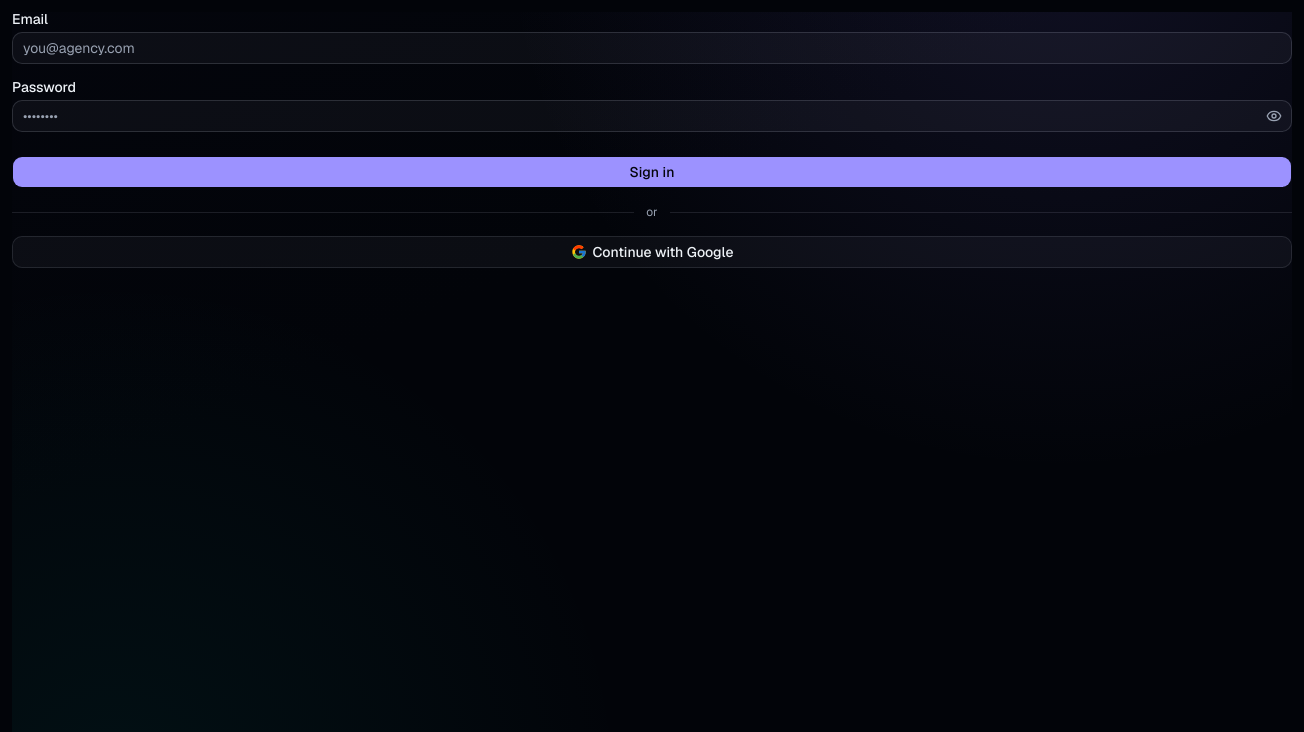
Test case: LoginForm › does not attempt to provision an organization when sign-in fails
Step 1. Type "ana@example.com" into the field labelled "Email" → [652, 48], box [12, 32, 1292, 64]
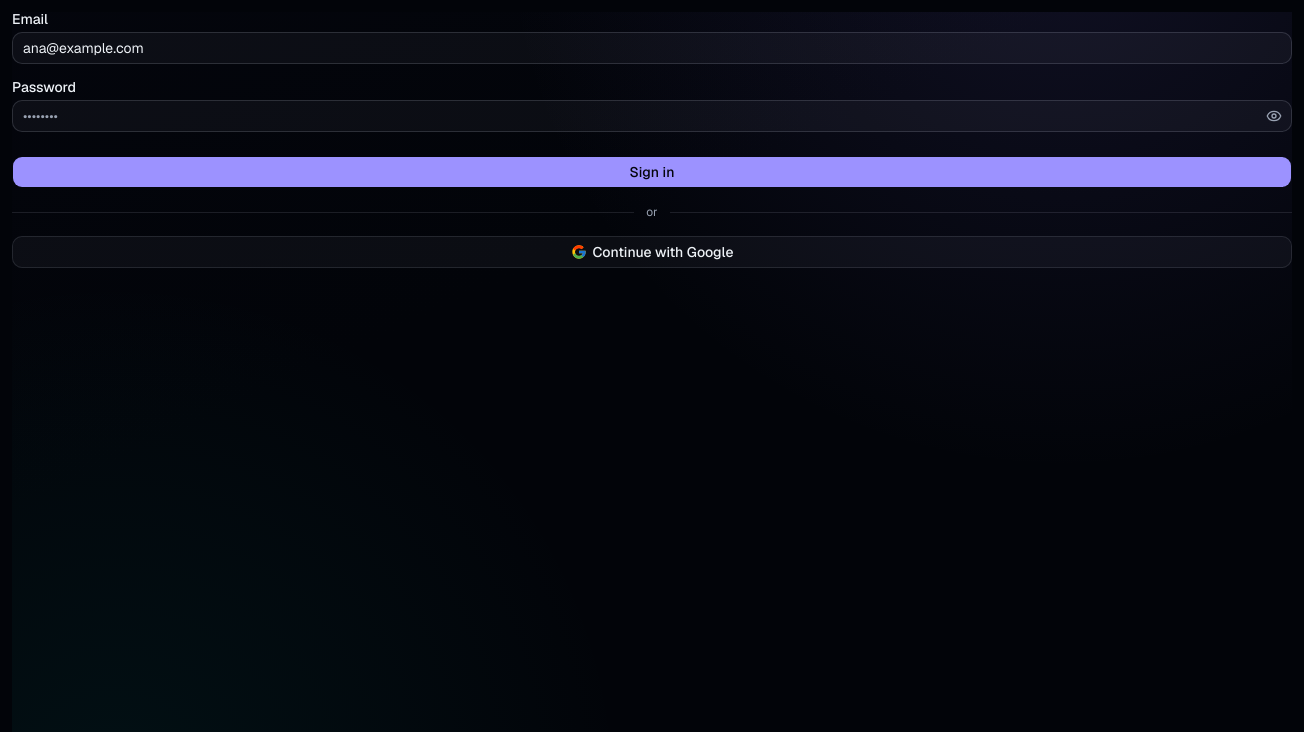
Step 2. Type "wrongpassword1" into the password field labelled "Password" → [652, 116], box [12, 100, 1292, 132]
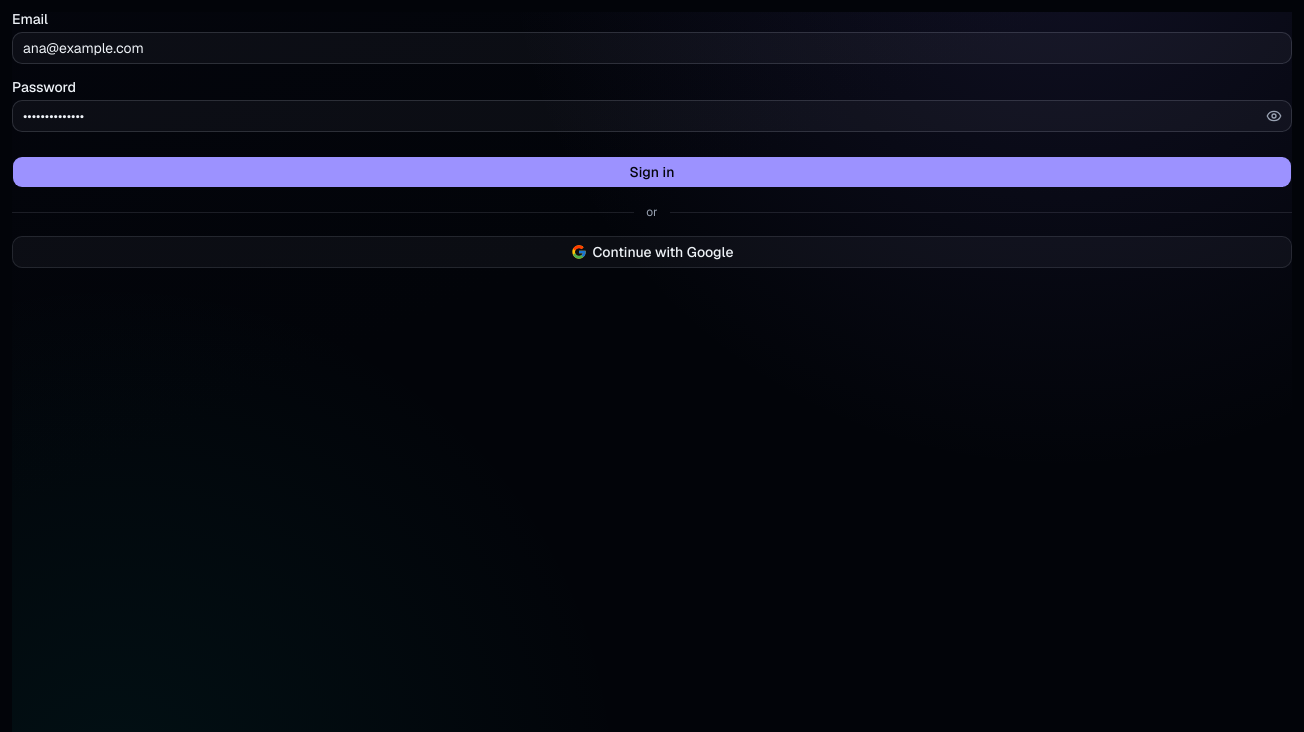
Step 3. Click the button "Sign in" → [652, 172], box [12, 156, 1292, 188]
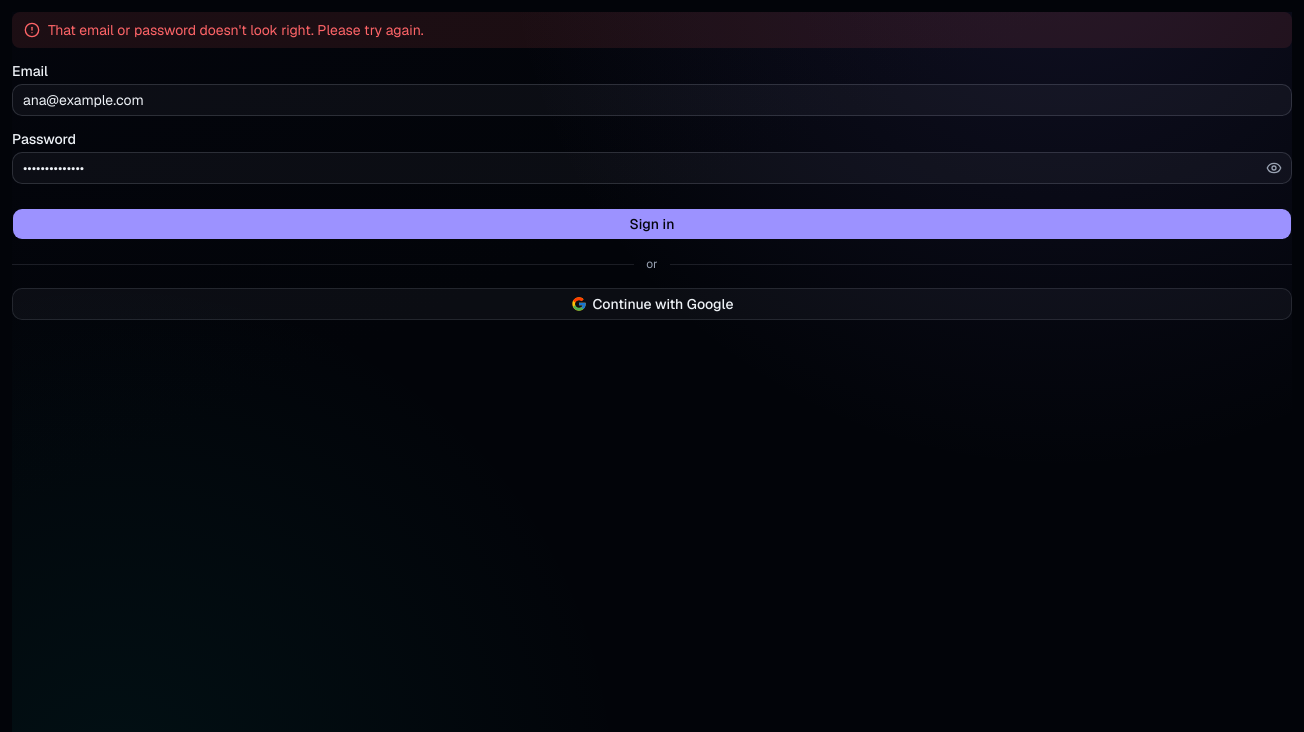
Expected: the message "That email or password doesn't look right. Please try again." is shown, [12, 12, 1292, 48]
